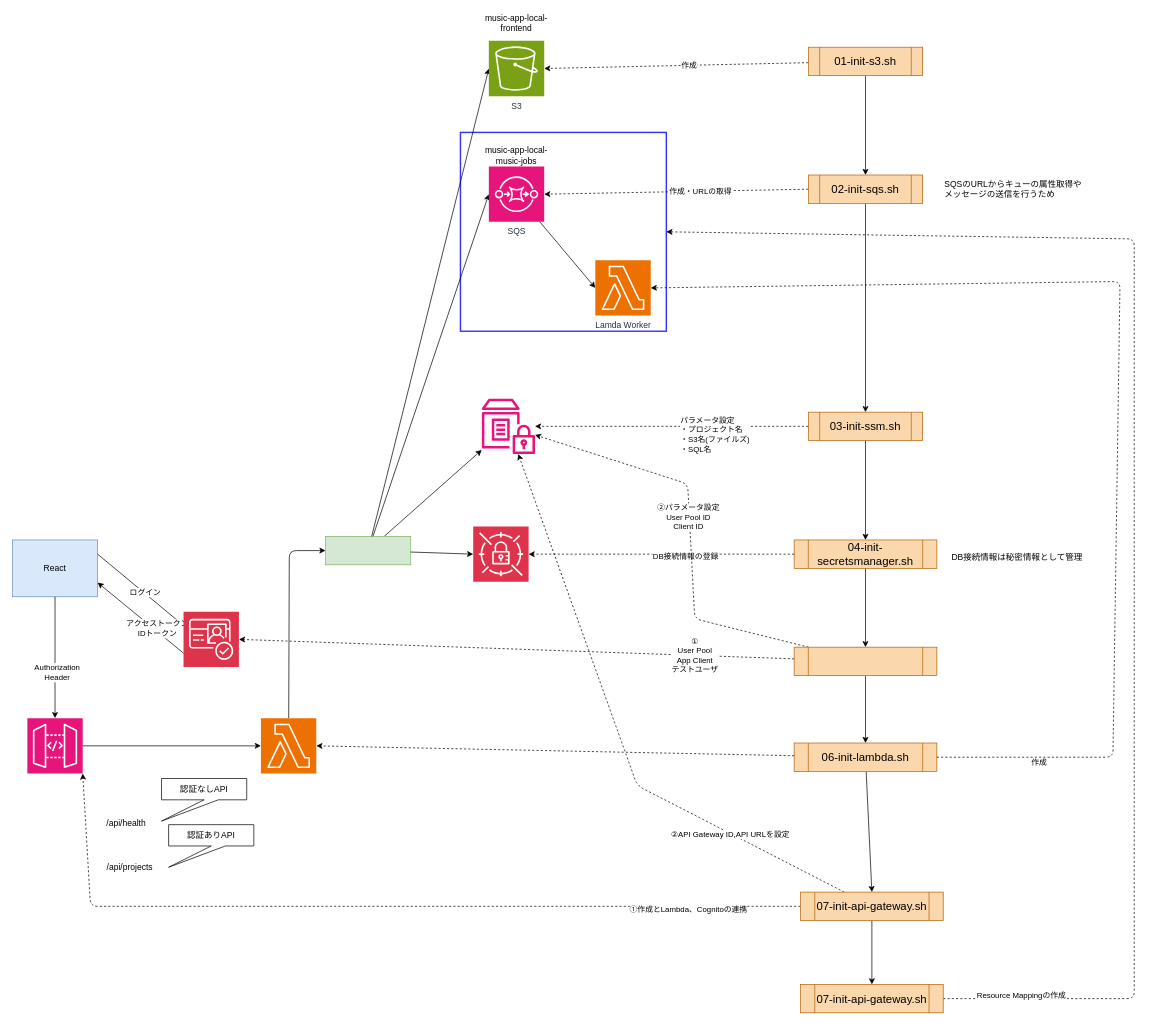
The diagram is 1152 pixels wide and 1025 high, and some of its shapes have lost their labels. Each missing label, with the centre of its shape:
"05-init-cognito.sh" goes at (x=865, y=661).
"API Gateway" goes at (x=55, y=745).
"Cognito" goes at (x=211, y=639).
"Lambda" goes at (x=288, y=745).
"Secrets Manager" goes at (x=501, y=554).
"Spring boot" goes at (x=368, y=550).
"SSM Parameter Store" goes at (x=508, y=426).
